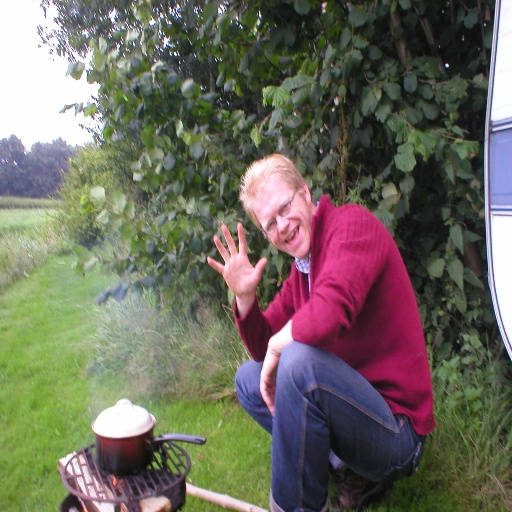hand: (211, 229, 266, 313), (258, 341, 284, 418)
